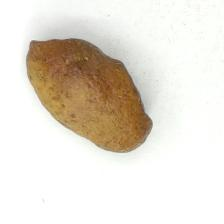NG: (92, 32, 153, 122)
